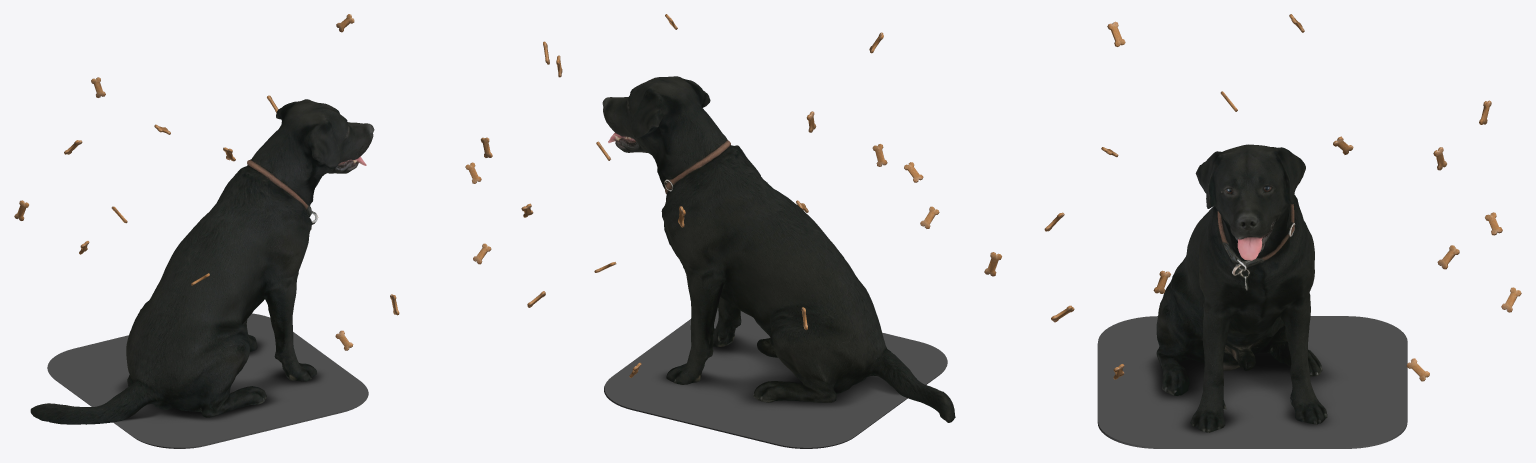
The model's file is doggolovers.glb.
The picture shows the model from 3 angles, left to right: view 1: azimuth 30°, elevation 25°; view 2: azimuth 150°, elevation 25°; view 3: azimuth 270°, elevation 25°; orthographic projection. The views are drawn at different scales.
Parts seen in each view (by area): view 1: DOG_Anton_A_mat35_0, Plane; view 2: DOG_Anton_A_mat35_0, Plane; view 3: DOG_Anton_A_mat35_0, Plane.
Part boxes in pixels (x1=…): DOG_Anton_A_mat35_0: x1=30, y1=99, x2=374, y2=424; Plane: x1=47, y1=313, x2=368, y2=448; DOG_Anton_A_mat35_0: x1=602, y1=76, x2=955, y2=422; Plane: x1=604, y1=308, x2=947, y2=448; DOG_Anton_A_mat35_0: x1=1156, y1=144, x2=1327, y2=432; Plane: x1=1097, y1=316, x2=1407, y2=448.
Bounding box in the file's own units: 1.34 × 0.9166 × 1.28.
Materials: 3 (3 with a texture image).
